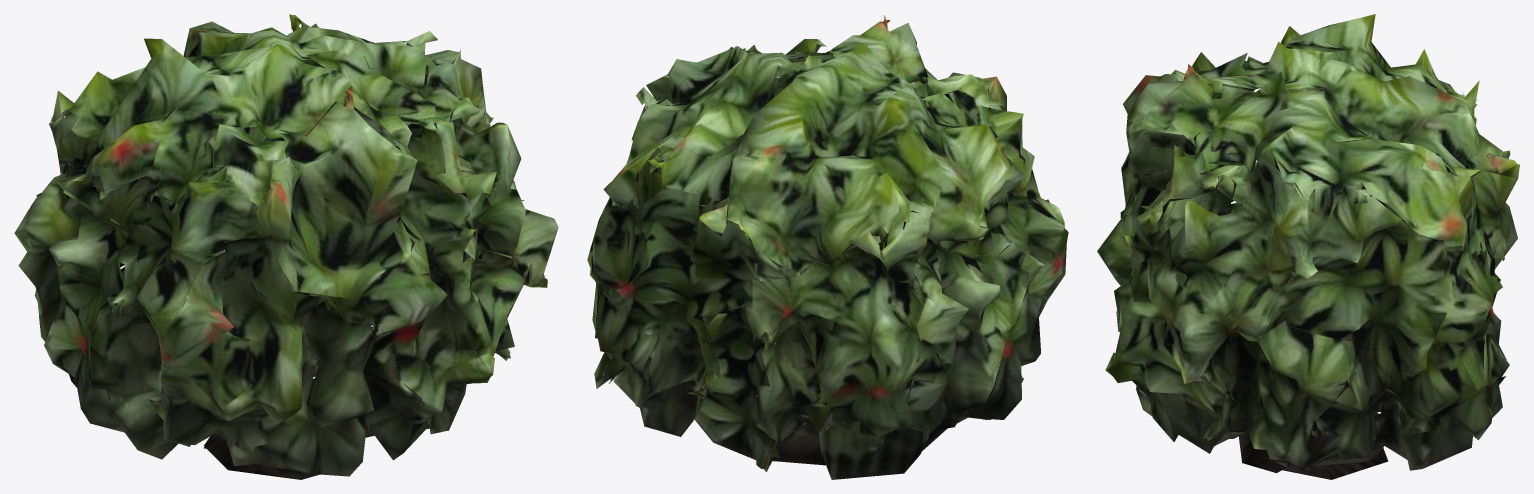
File: bush.glb
3 renders of one model, left to right at view 1: azimuth 30°, elevation 25°; view 2: azimuth 150°, elevation 25°; view 3: azimuth 270°, elevation 25°, orthographic. The views are drawn at different scales.
Visible parts, largest first — view 1: model; view 2: model; view 3: model.
Boxes of the visible parts, x1,y1,x2,y2 form: model: (14, 14, 558, 479); model: (587, 15, 1068, 479); model: (1097, 14, 1519, 479).
Bounding box in the file's own units: 1.05 × 1 × 0.9714.
1 material, 1 textured.
